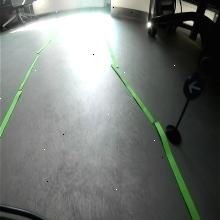left: (184, 70, 204, 100)
